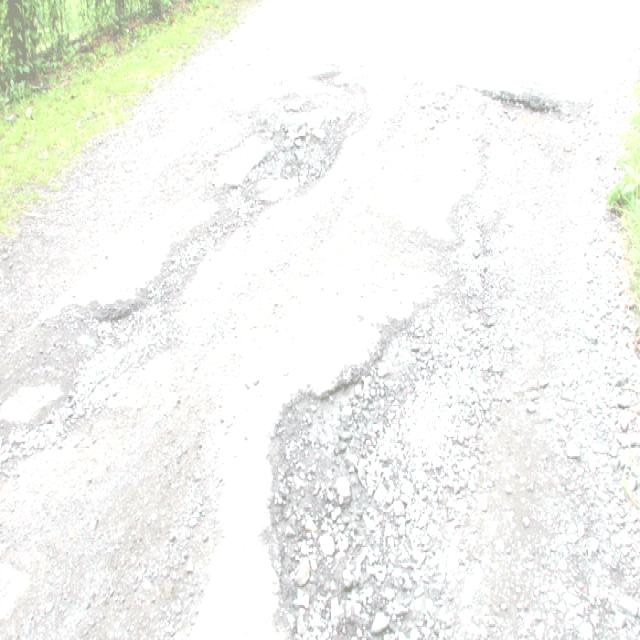Pothole: (236, 49, 614, 640)
